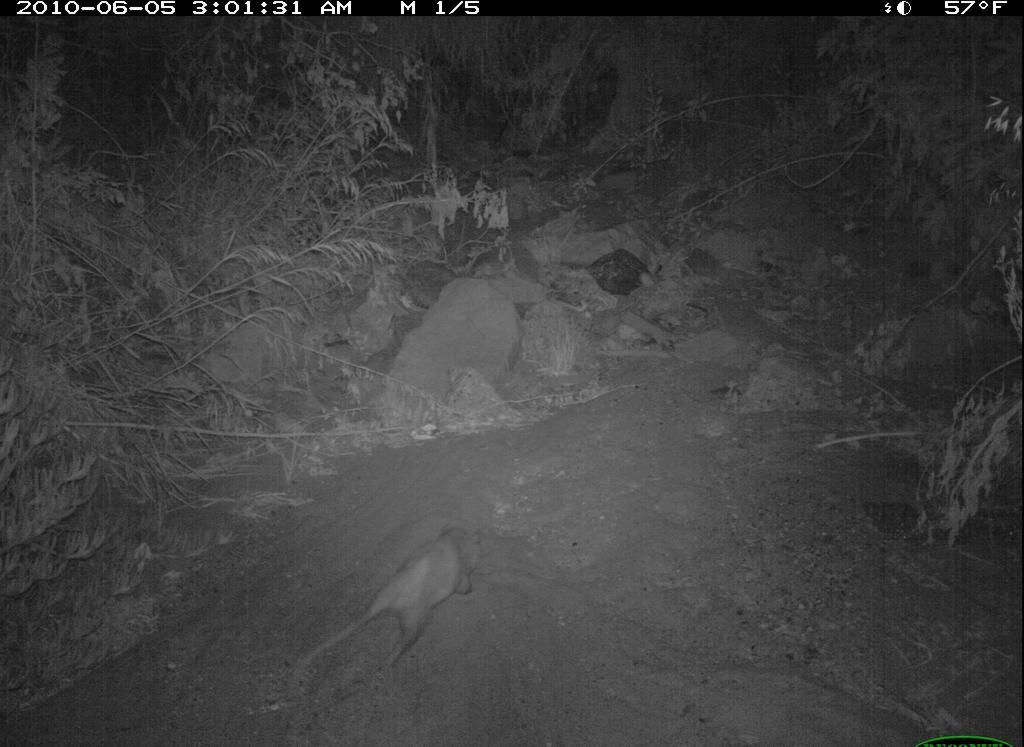opossum: (292, 520, 497, 693)
